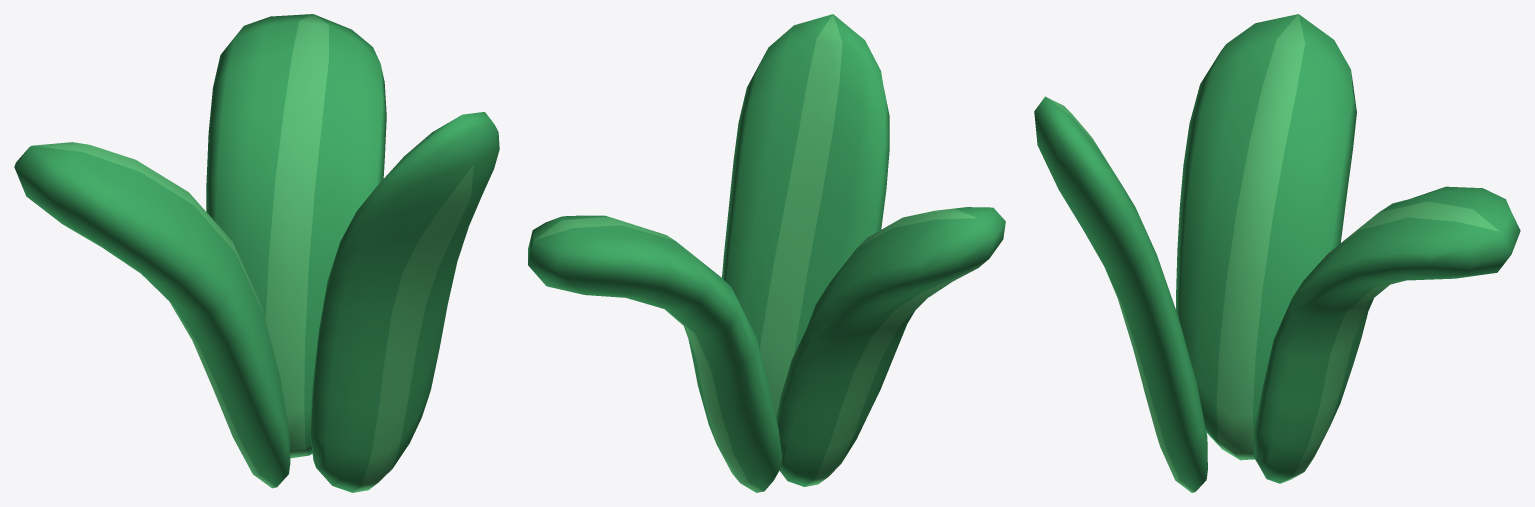
File: Flora_B_01.fbx
The picture shows the model from 3 angles, left to right: view 1: azimuth 30°, elevation 25°; view 2: azimuth 150°, elevation 25°; view 3: azimuth 270°, elevation 25°; orthographic projection. The views are drawn at different scales.
Parts seen in each view (by area): view 1: Flora_B_01_LOD0; view 2: Flora_B_01_LOD0; view 3: Flora_B_01_LOD0.
Part boxes in pixels (bbox=[...]): Flora_B_01_LOD0: bbox=[14, 14, 499, 492]; Flora_B_01_LOD0: bbox=[528, 14, 1005, 492]; Flora_B_01_LOD0: bbox=[1034, 14, 1520, 492].
Size of what is drawn, in the model's own units: 294 by 281 by 306.
